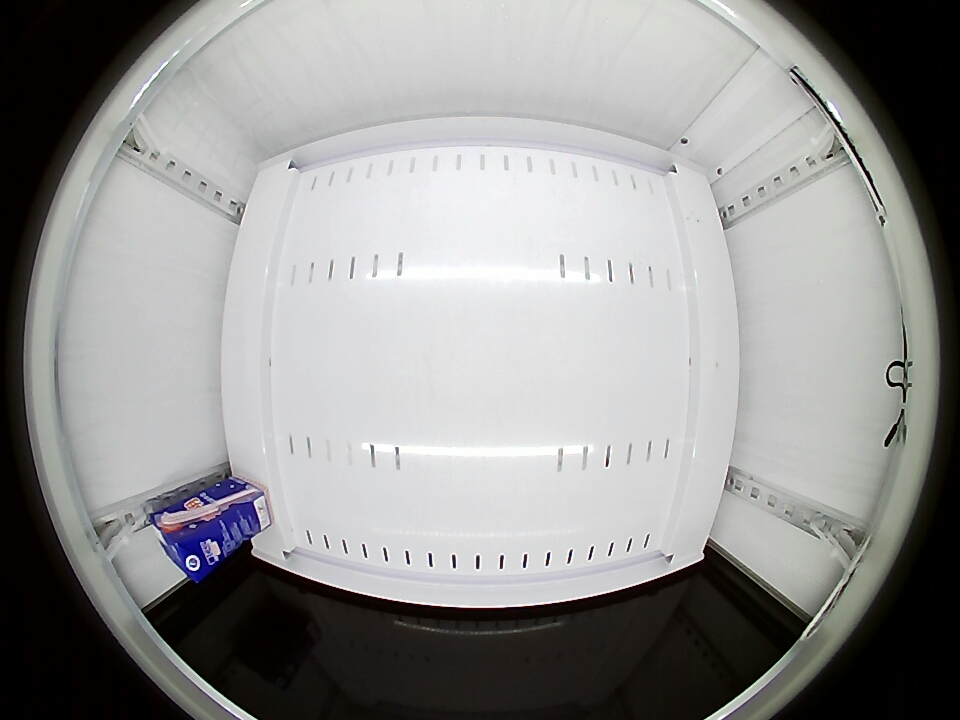bingqilinniunai: (151, 503, 226, 582)
